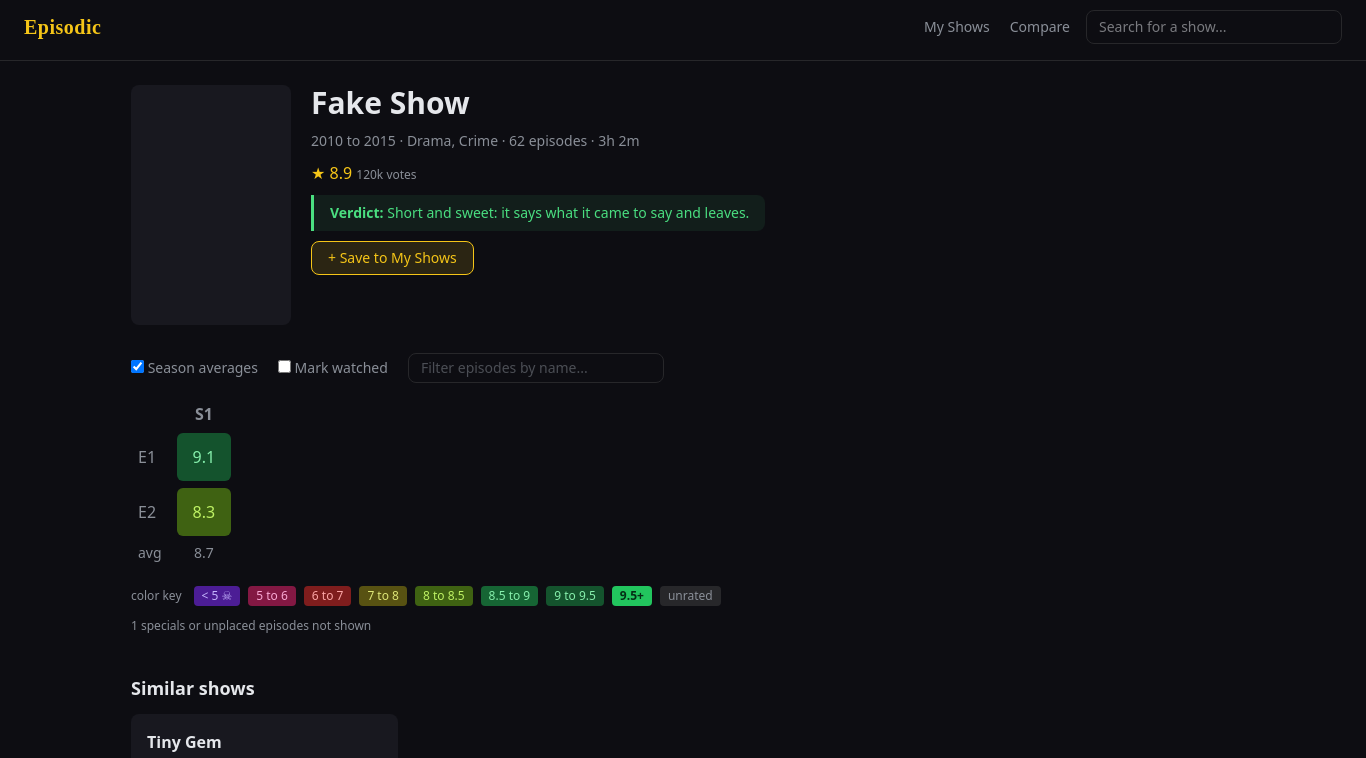
Show page › resets per-show state when navigating to another show
Check: the heading "Fake Show" is shown, box [311,82,470,123]
In the field with placeholder "Filter episodes by name...": {"x": 536, "y": 368} [408,353,664,383], type "pilot"
(page scrolled)
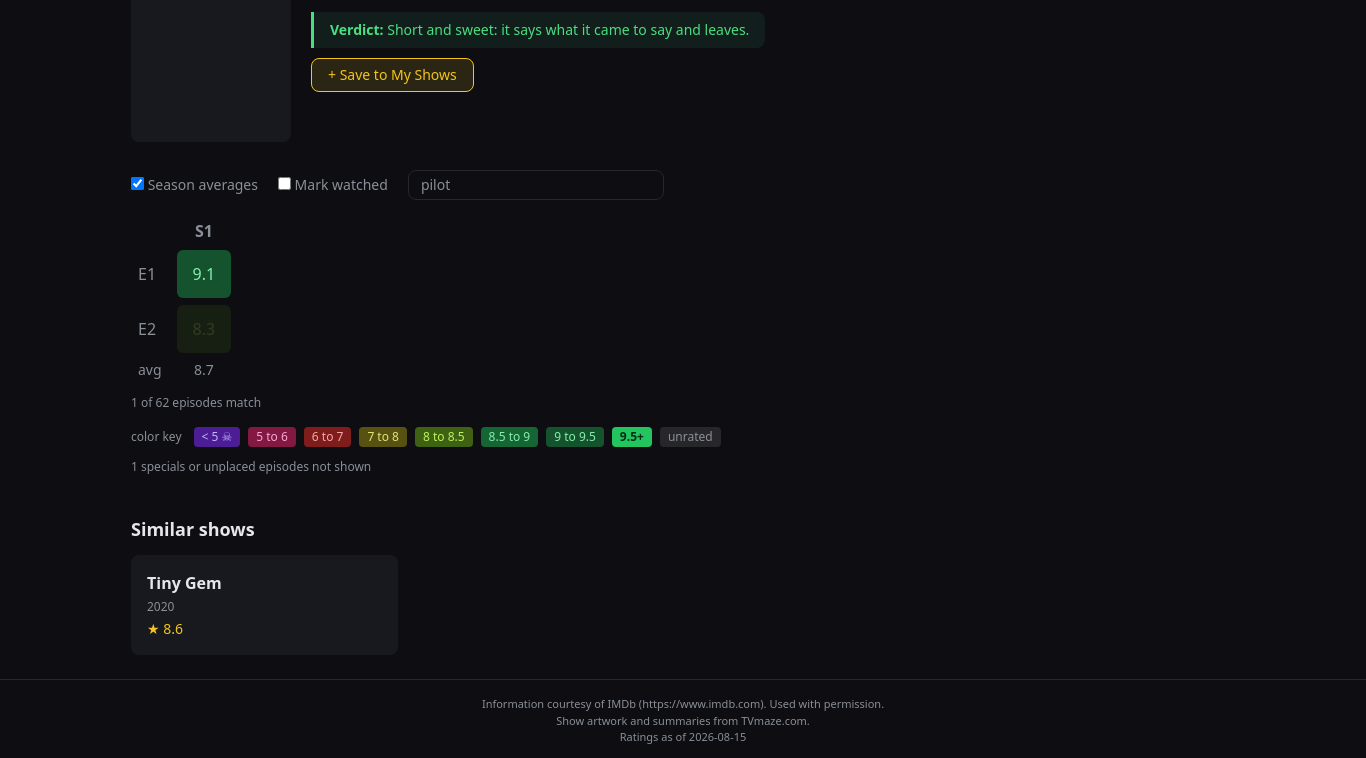
Click the text "Tiny Gem": {"x": 184, "y": 583} [147,572,222,594]
(page scrolled)
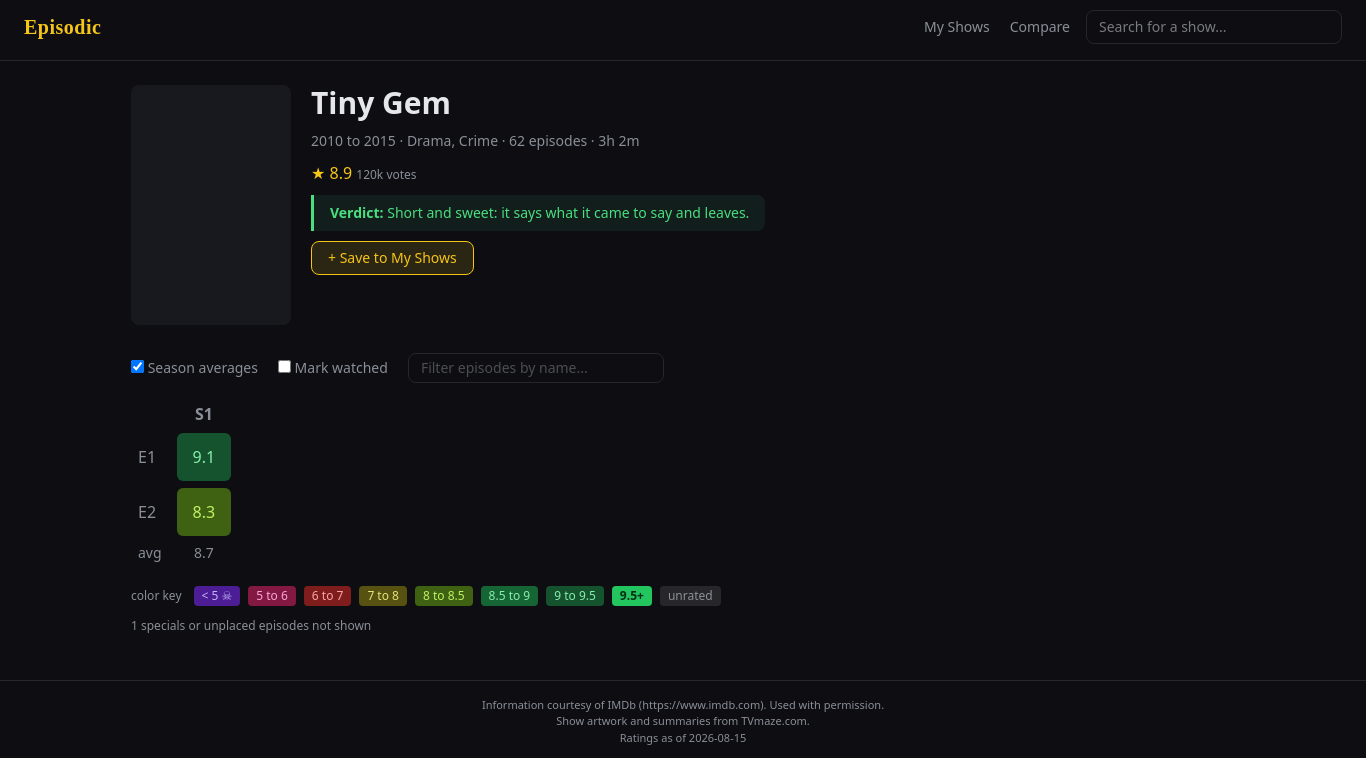
Check: the heading "Tiny Gem" is shown, box [311,82,451,123]
Check: the field with placeholder "Filter episodes by name..." is empty, box [408,353,664,383]
